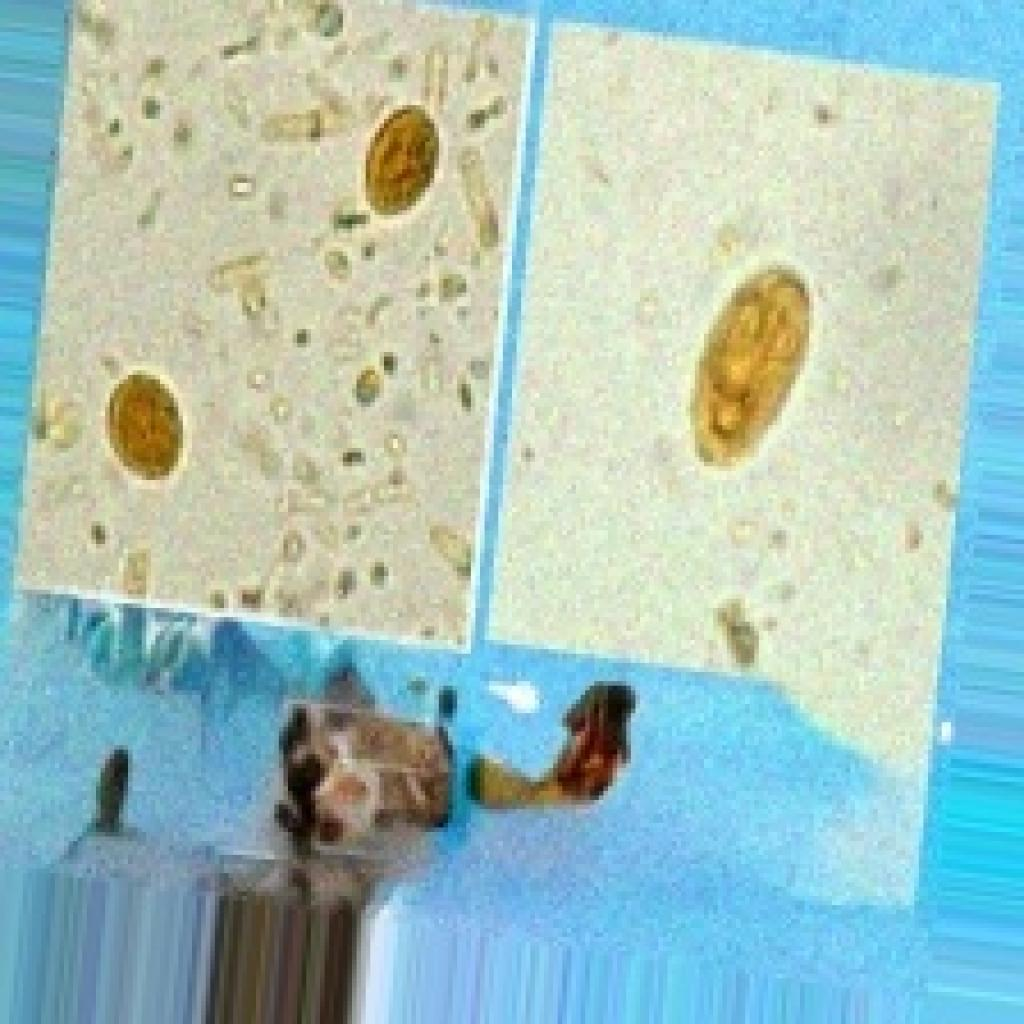Yeast: (12, 4, 945, 748)
